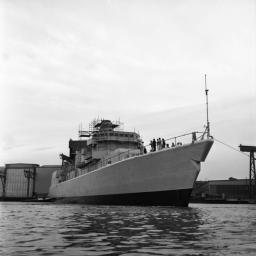Fragata: (48, 68, 216, 207)
